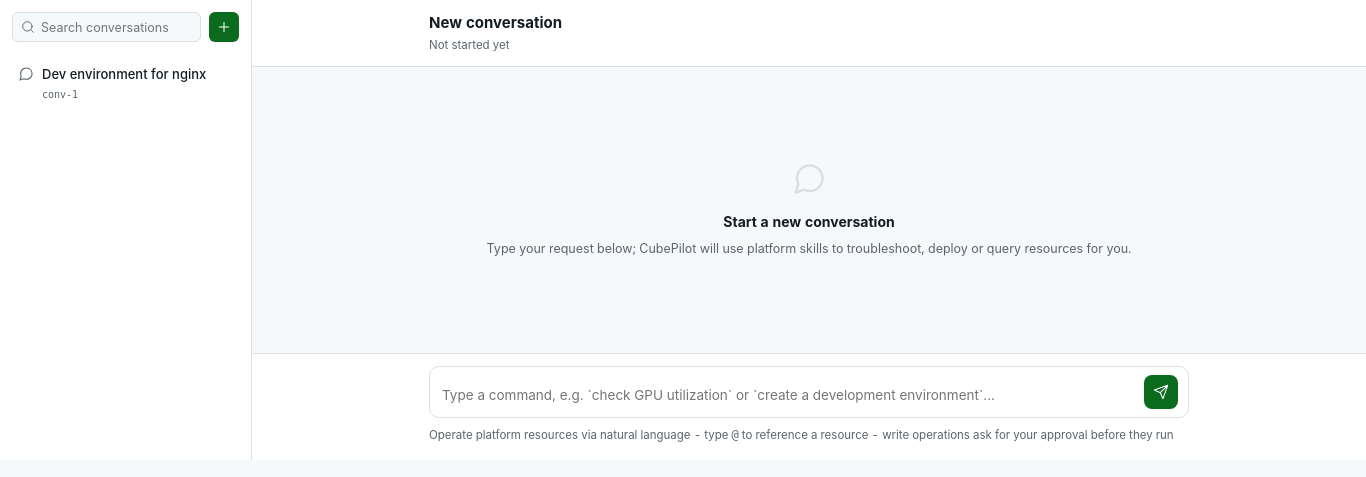
Test: ChatView live turn status › catches up on a turn it is not streaming once that turn ends
Click the text "Dev environment for nginx" at (138, 75), box [42,65,233,84]
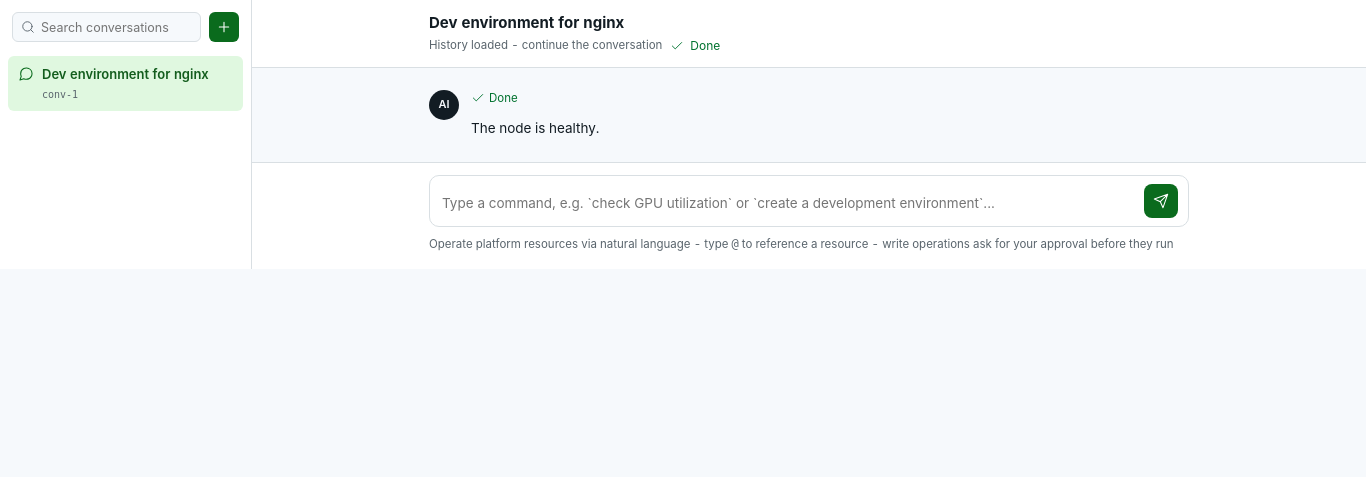
expect the text "Still running" is shown: met, box [690,36,720,54]
expect the text "The node is healthy." is shown: met, box [471,117,600,140]
